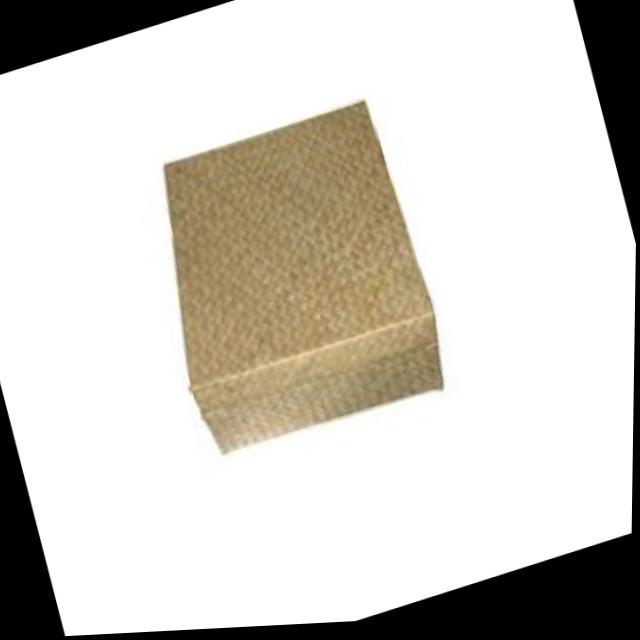box: (123, 72, 475, 499)
